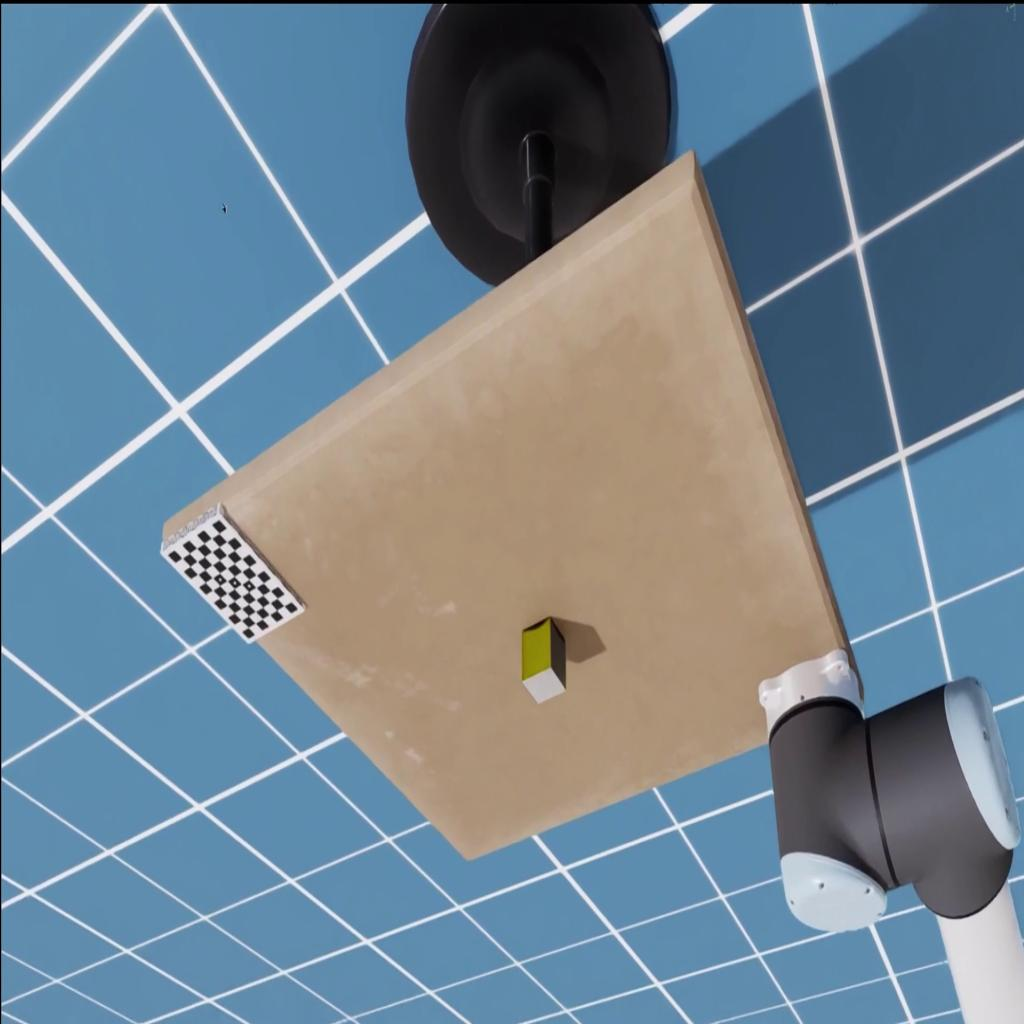Cube: (520, 616, 566, 704)
QR: (160, 502, 306, 644)
Robot: (757, 645, 1024, 1024)
Table: (162, 148, 864, 862)
